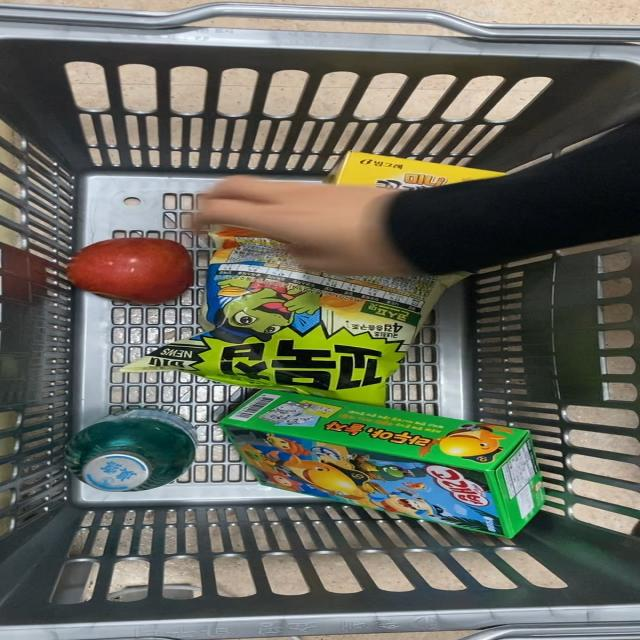ggobukchip: (178, 248, 452, 400)
goraebob: (235, 393, 557, 531)
jinro: (64, 402, 215, 497)
minicrab: (329, 151, 593, 241)
plum: (67, 225, 214, 301)
